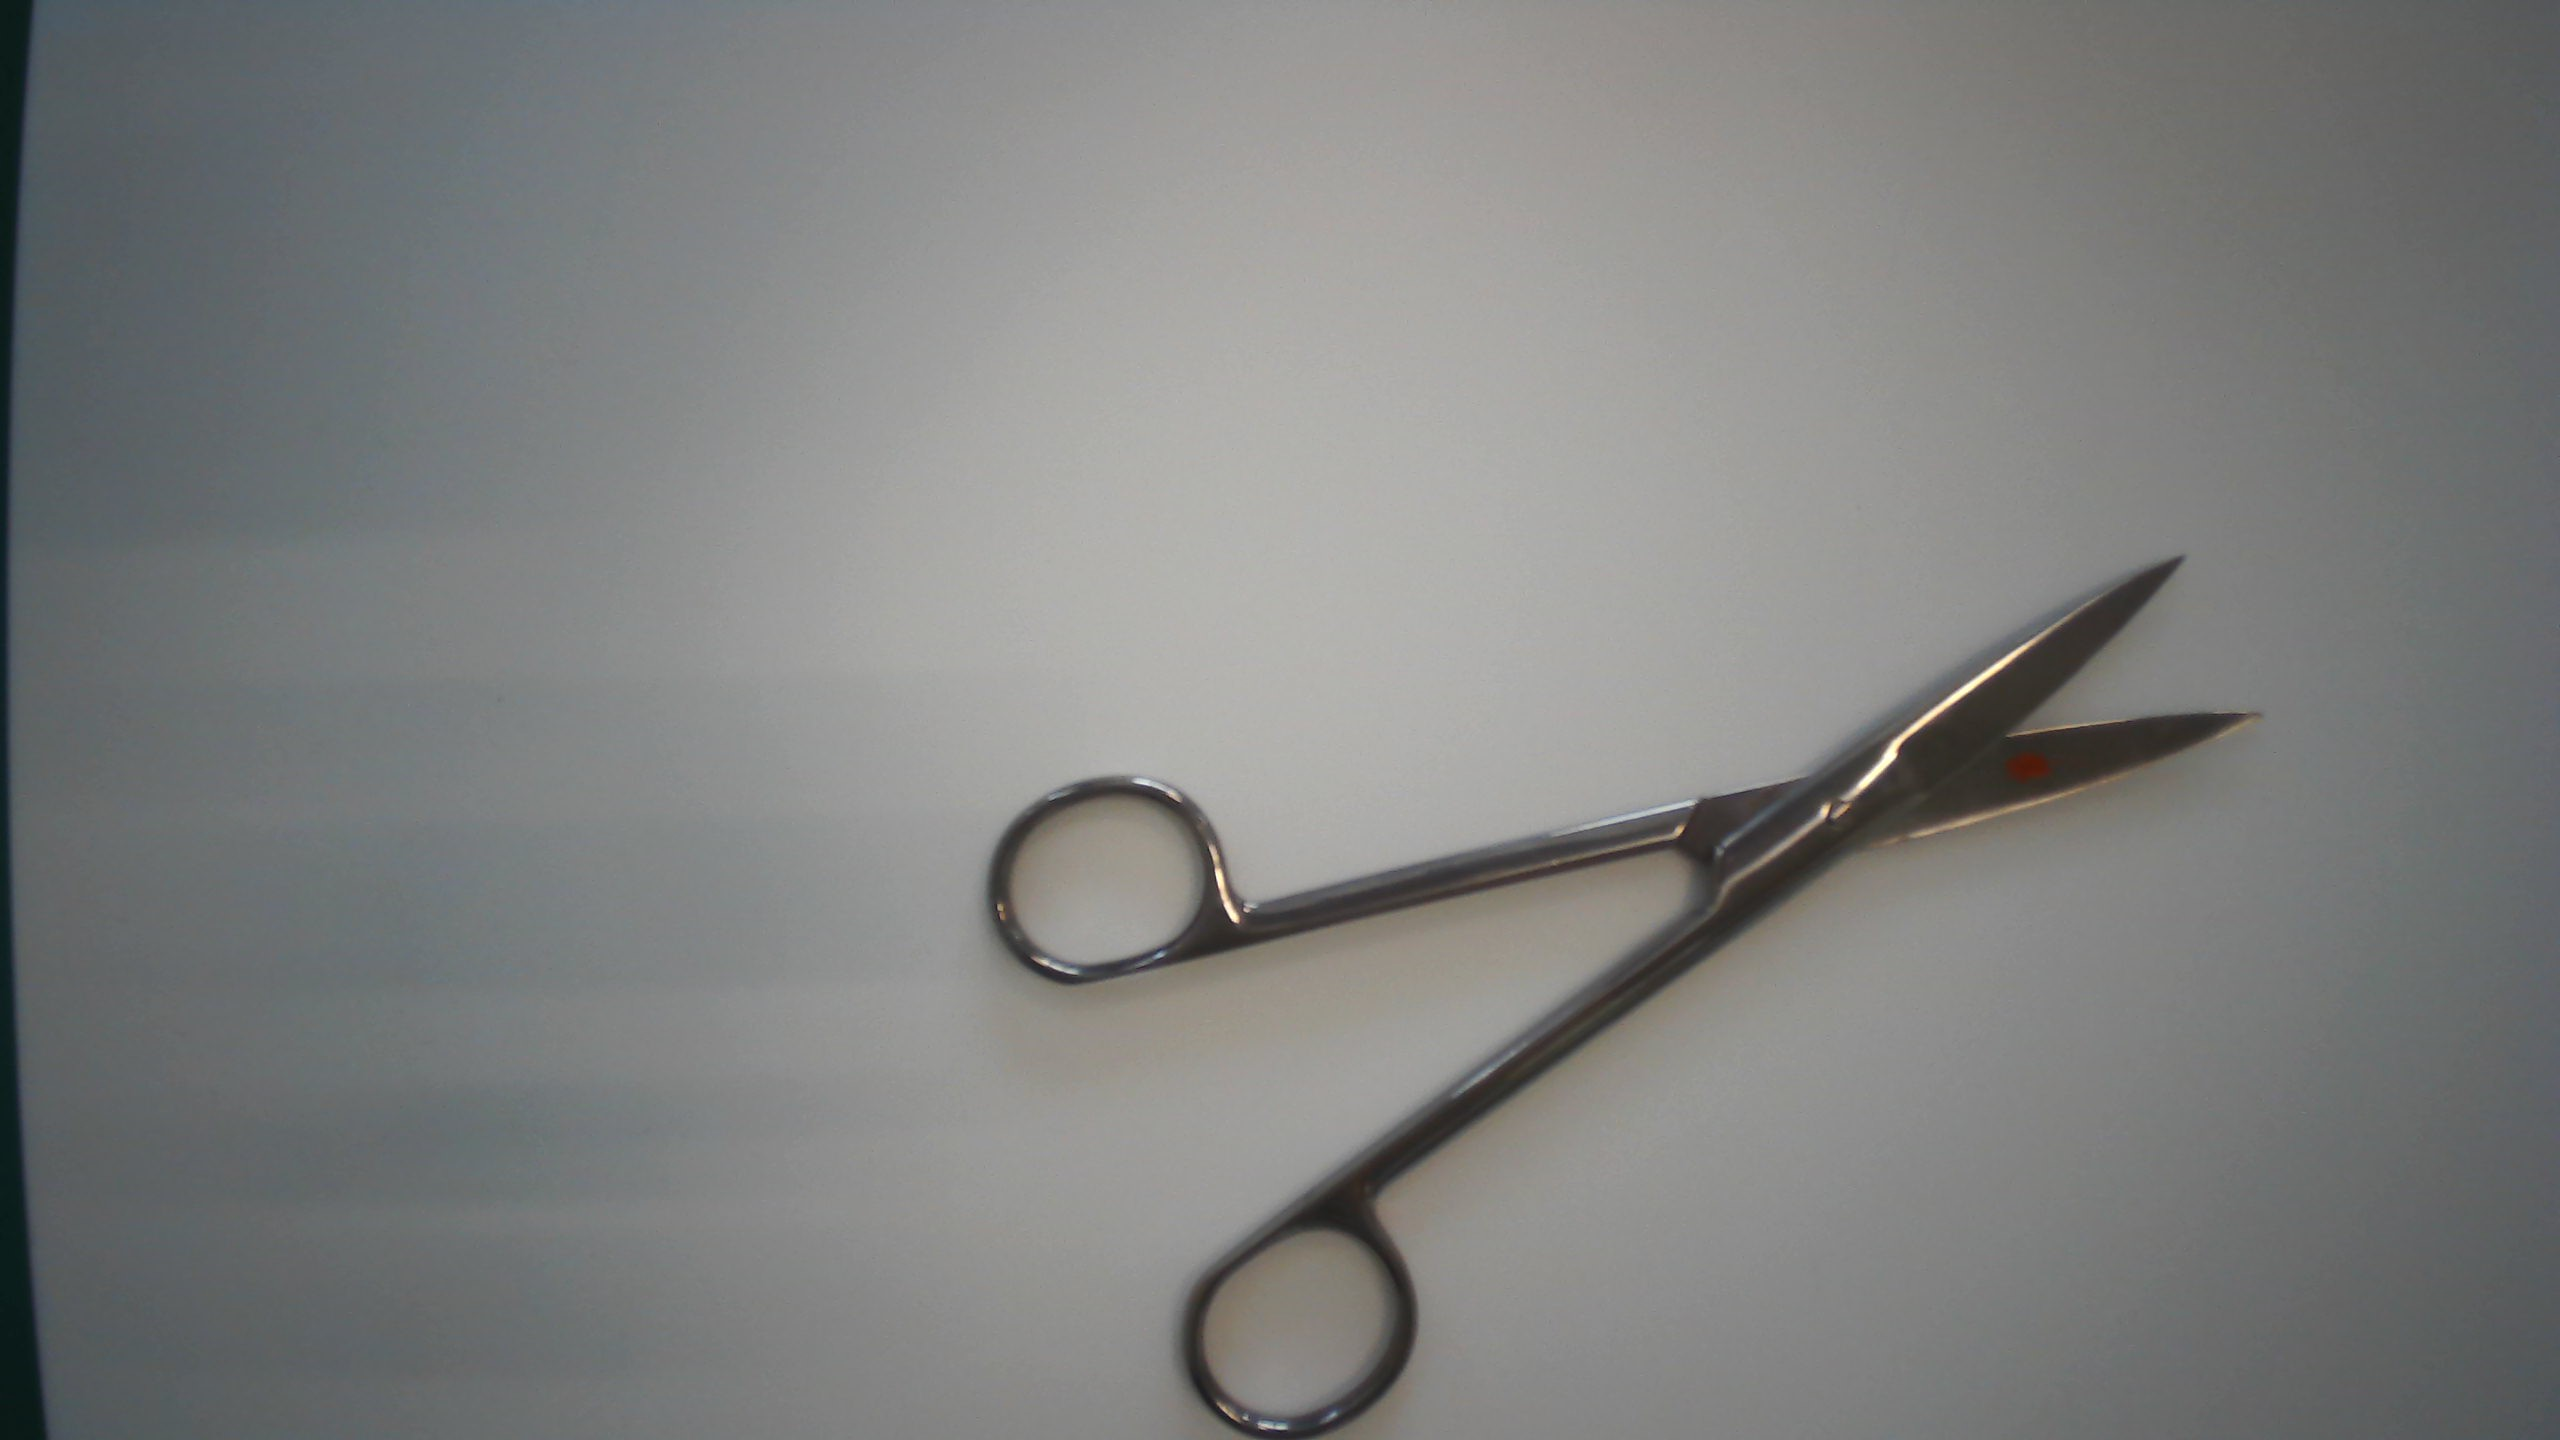Stain: (1996, 730, 2071, 804)
